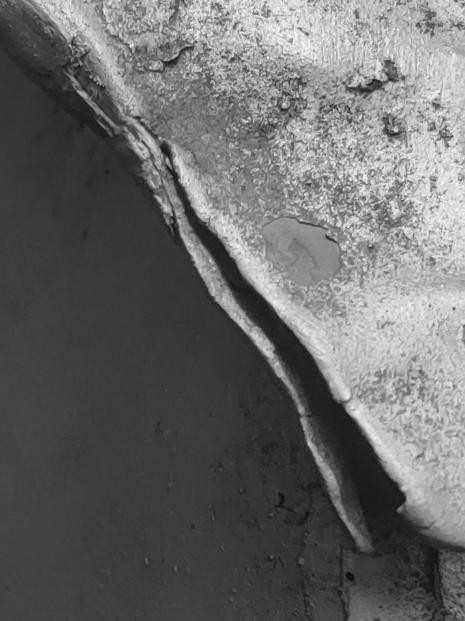crack: (1, 0, 465, 621)
